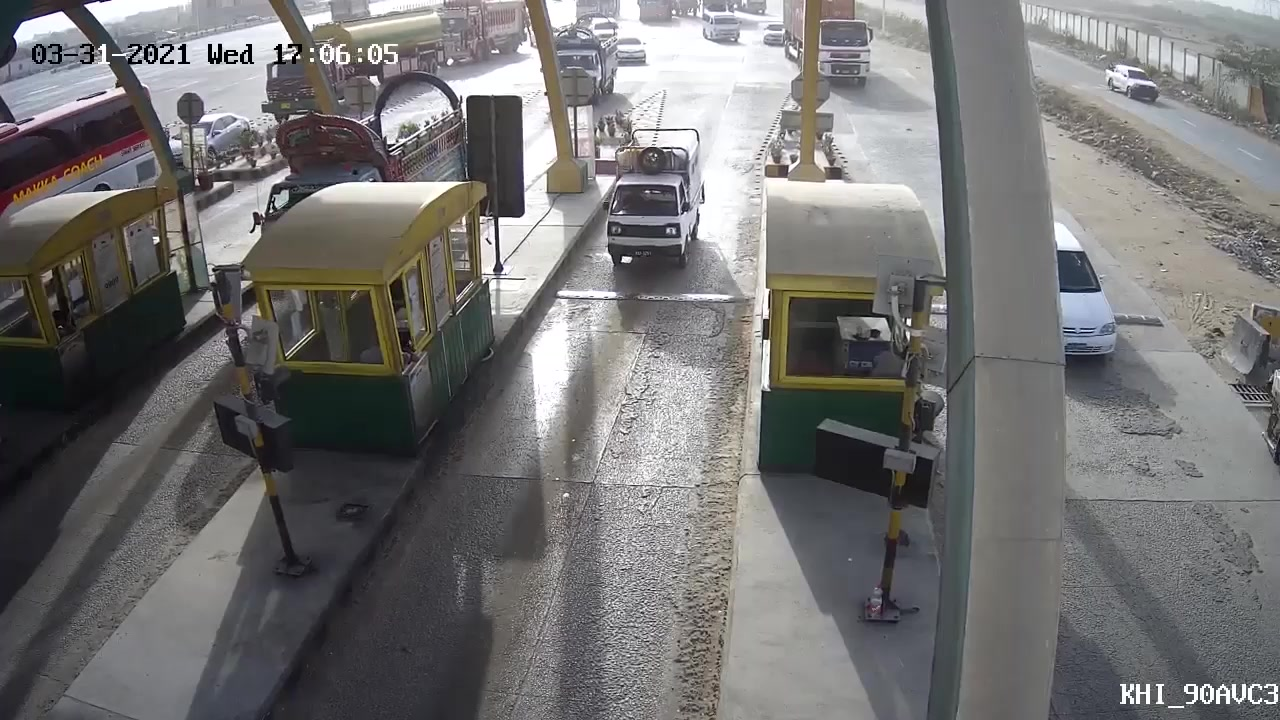F1: (607, 125, 711, 291)
